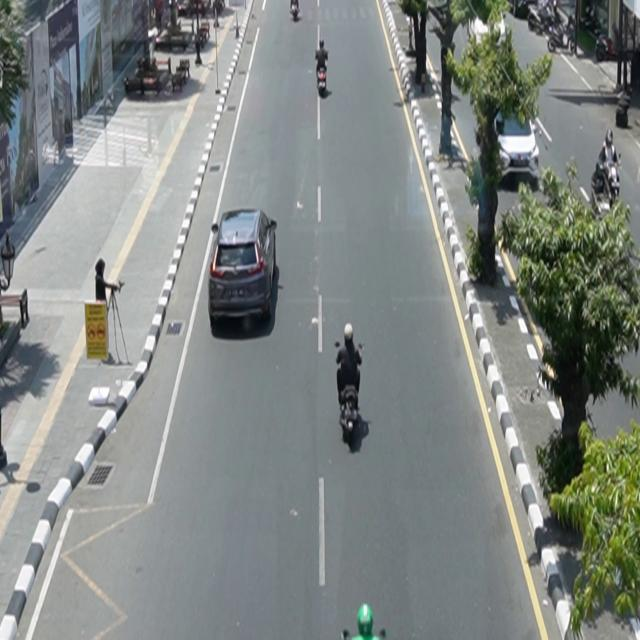car: (209, 208, 278, 327), (493, 107, 541, 185)
